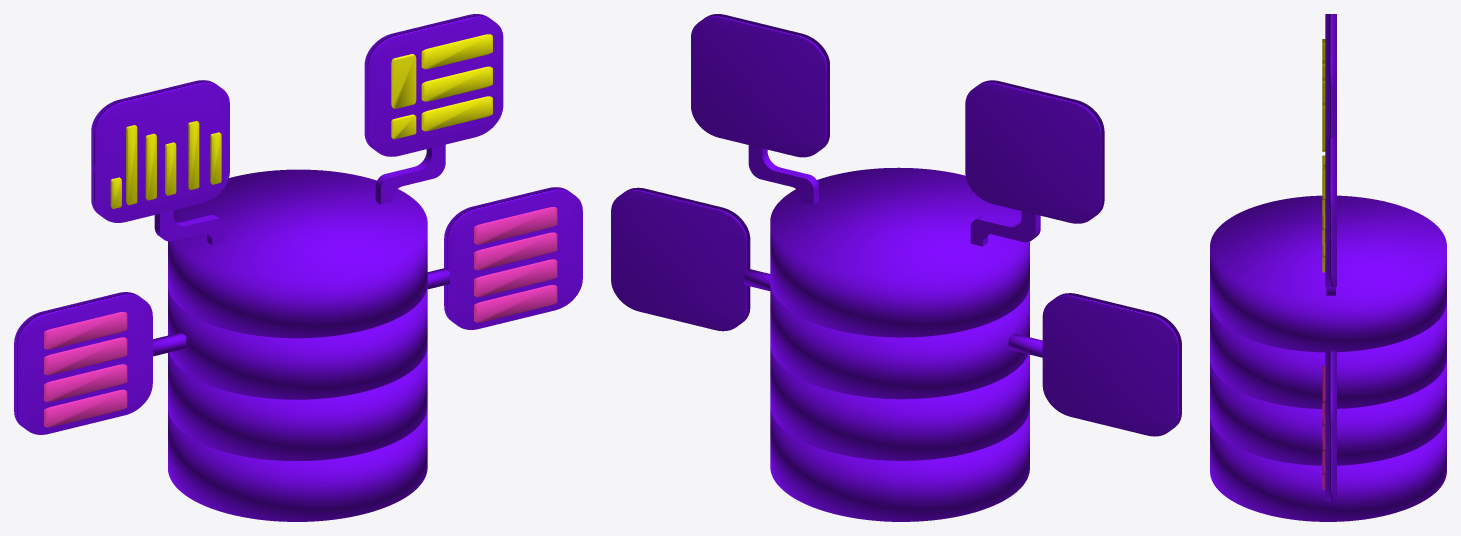
File: AppropriateUseOfTheDBMSWeb.gltf
The picture shows the model from 3 angles, left to right: view 1: azimuth 30°, elevation 25°; view 2: azimuth 150°, elevation 25°; view 3: azimuth 270°, elevation 25°; orthographic projection. The views are drawn at different scales.
Visible parts, largest first — view 1: Database, Database_Data_2, Database_Data_1, Database_Data_3, Database_Data_4, Cube.005, Cube.017, Cube.003, Connections, Cube.012; view 2: Database, Database_Data_2, Database_Data_3, Database_Data_1, Database_Data_4, Connections; view 3: Database, Database_Data_1, Database_Data_4, Database_Data_2, Cube.005, Cube.003, Cube.012.
Boxes of the visible parts, left/top/right/bottom form: Database: left=168, top=169, right=427, bottom=521; Database_Data_2: left=91, top=80, right=229, bottom=222; Database_Data_1: left=364, top=14, right=503, bottom=156; Database_Data_3: left=14, top=292, right=152, bottom=434; Database_Data_4: left=444, top=187, right=582, bottom=329; Cube.005: left=474, top=207, right=557, bottom=322; Cube.017: left=44, top=312, right=127, bottom=427; Cube.003: left=391, top=34, right=492, bottom=139; Connections: left=153, top=144, right=449, bottom=356; Cube.012: left=110, top=121, right=221, bottom=208; Database: left=770, top=167, right=1029, bottom=521; Database_Data_2: left=965, top=80, right=1104, bottom=223; Database_Data_3: left=1042, top=293, right=1181, bottom=436; Database_Data_1: left=691, top=14, right=829, bottom=157; Database_Data_4: left=611, top=187, right=750, bottom=331; Connections: left=744, top=145, right=1042, bottom=357; Database: left=1210, top=195, right=1446, bottom=521; Database_Data_1: left=1325, top=137, right=1336, bottom=286; Database_Data_4: left=1325, top=351, right=1336, bottom=500; Database_Data_2: left=1325, top=14, right=1336, bottom=137; Cube.005: left=1322, top=366, right=1325, bottom=489; Cube.003: left=1322, top=155, right=1325, bottom=272; Cube.012: left=1322, top=39, right=1325, bottom=151.
Bounding box in the file's own units: 9.99 × 6.91 × 3.95.
